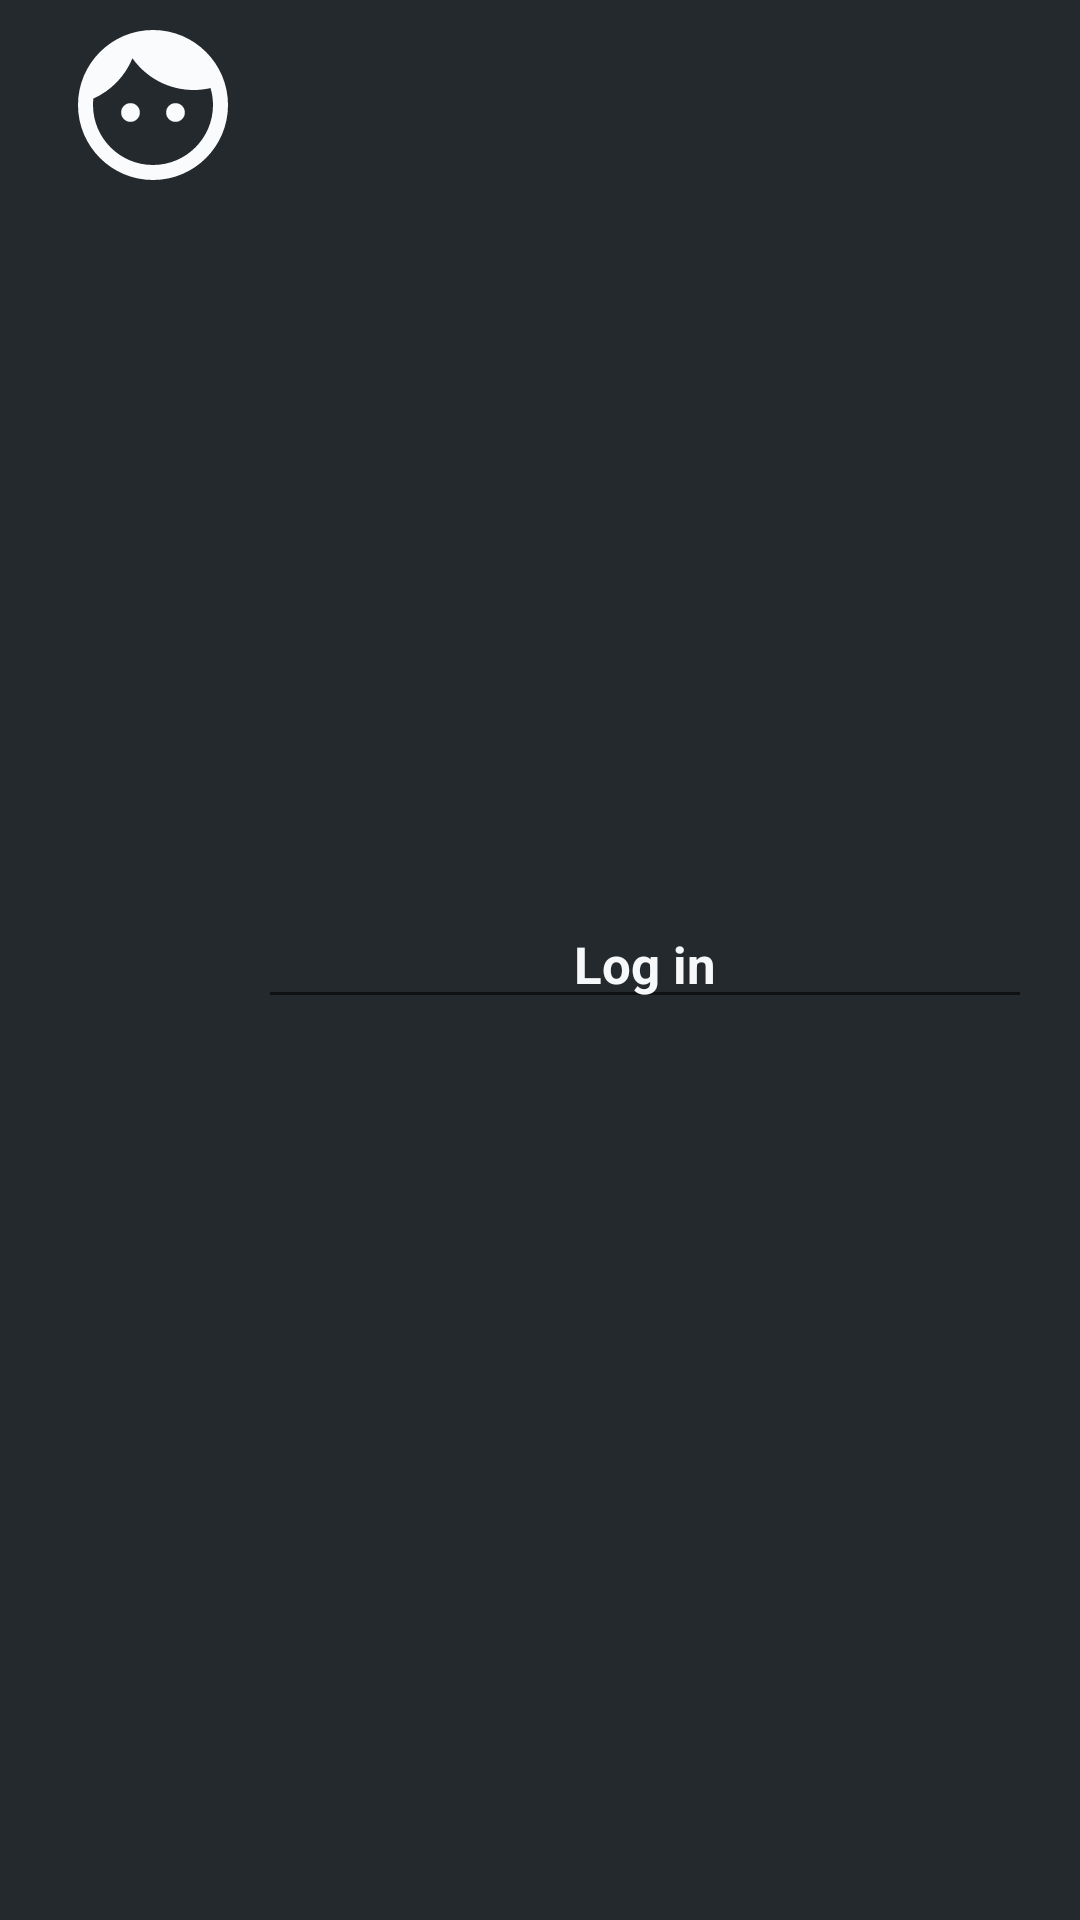

Point at icon controls on the screen. Image size 1080 x 1920, points as [x,y].
User's profile picture: [153,105]
